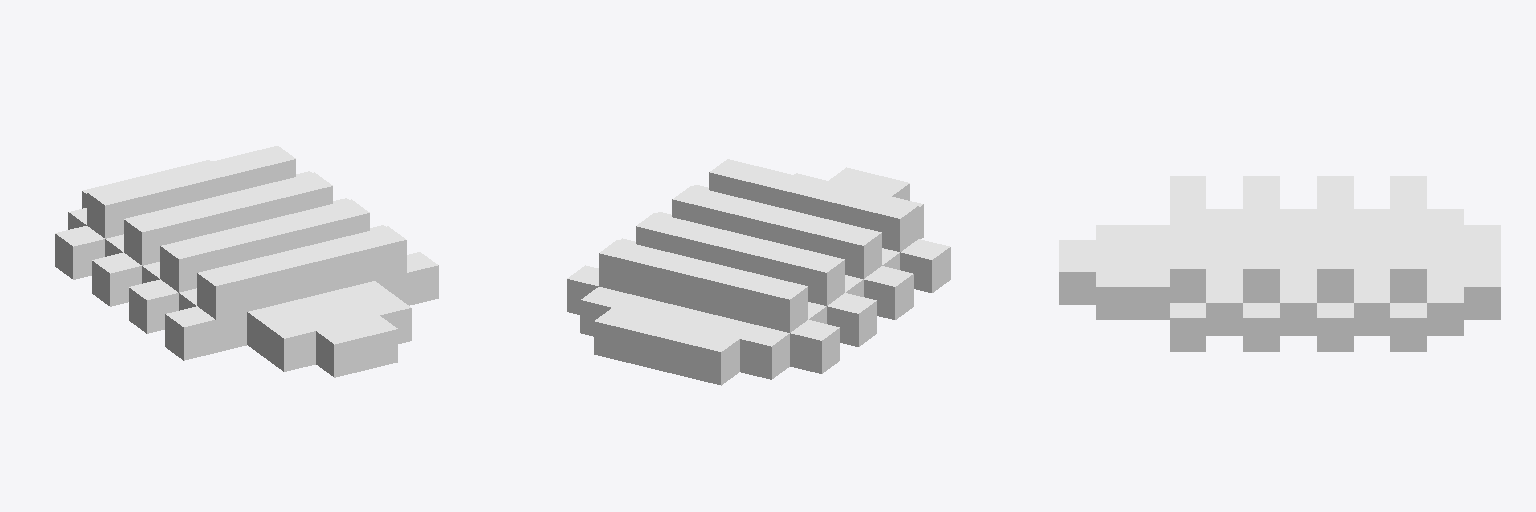
File: Extra-5-DualStriker_Cockpit.obj
The picture shows the model from 3 angles: view 1: azimuth 30°, elevation 25°; view 2: azimuth 150°, elevation 25°; view 3: azimuth 270°, elevation 25°; orthographic projection.
Visible parts, largest first — view 1: DualStriker_Cockpit; view 2: DualStriker_Cockpit; view 3: DualStriker_Cockpit.
Part boxes in pixels (bbox=[...]): DualStriker_Cockpit: bbox=[55, 146, 438, 377]; DualStriker_Cockpit: bbox=[567, 159, 950, 385]; DualStriker_Cockpit: bbox=[1059, 176, 1500, 351].
Size of the model in its own units: 0.8 by 0.2 by 1.2.